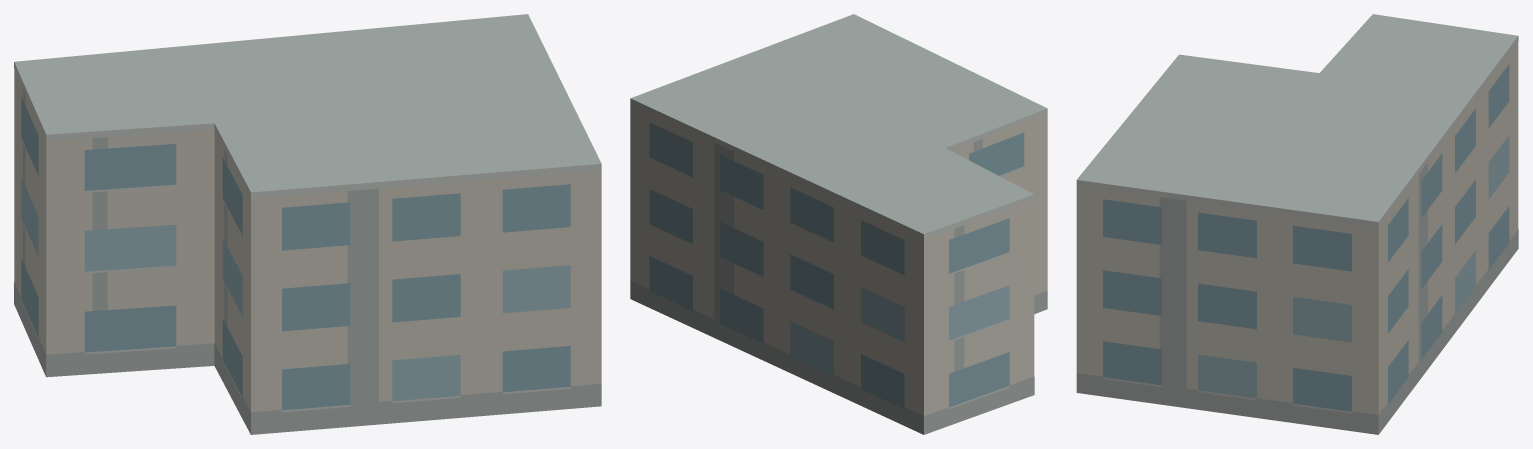
Rendered from survey-upis-32897977.glb.
The picture shows the model from 3 angles, left to right: view 1: azimuth 30°, elevation 25°; view 2: azimuth 150°, elevation 25°; view 3: azimuth 270°, elevation 25°; orthographic projection. The views are drawn at different scales.
Parts seen in each view (by area): view 1: survey-upis-32897977.tmp; view 2: survey-upis-32897977.tmp; view 3: survey-upis-32897977.tmp.
Part boxes in pixels (x1,y1,x2,y2): survey-upis-32897977.tmp: (14,14,601,434); survey-upis-32897977.tmp: (630,14,1047,434); survey-upis-32897977.tmp: (1076,14,1518,434).
Size of the model in its own units: 19.17 by 9.15 by 17.21.
